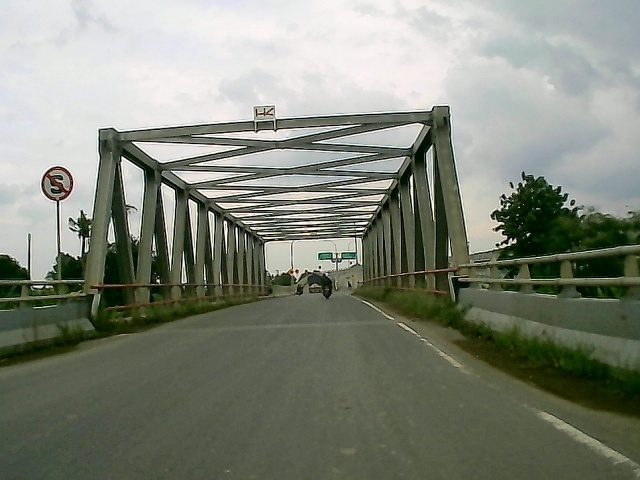Dilarang berhenti: (37, 164, 77, 204)
